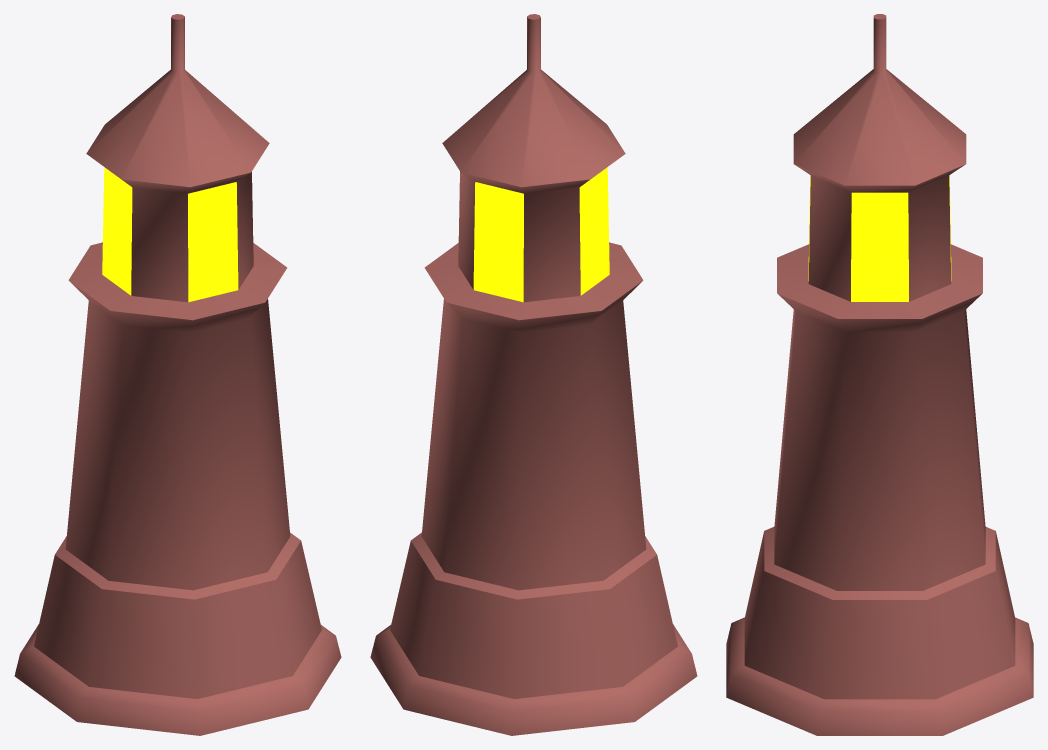
File: NST_LightHouse.fbx
3 views of the same model, side by side, from view 1: azimuth 30°, elevation 25°; view 2: azimuth 150°, elevation 25°; view 3: azimuth 270°, elevation 25° (orthographic).
Visible parts, largest first — view 1: PH_LightHouse; view 2: PH_LightHouse; view 3: PH_LightHouse.
Boxes of the visible parts, x1,y1,x2,y2 form: PH_LightHouse: (14, 14, 341, 735); PH_LightHouse: (370, 14, 697, 735); PH_LightHouse: (726, 14, 1033, 735).
Bounding box in the file's own units: 16.13 × 37.87 × 16.13.
